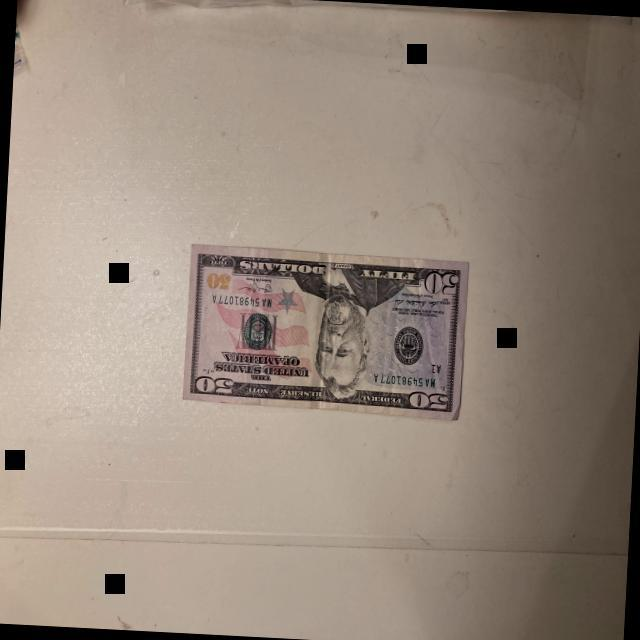fifty: (181, 243, 468, 419)
